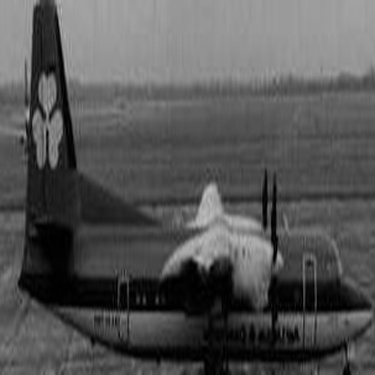airplane: (1, 1, 371, 370)
